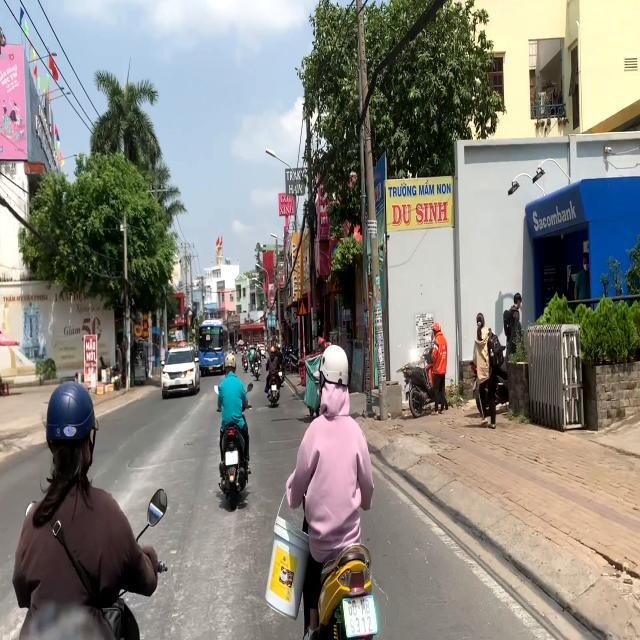bien_nguy_hiem: (331, 271, 346, 294), (297, 298, 308, 316)
